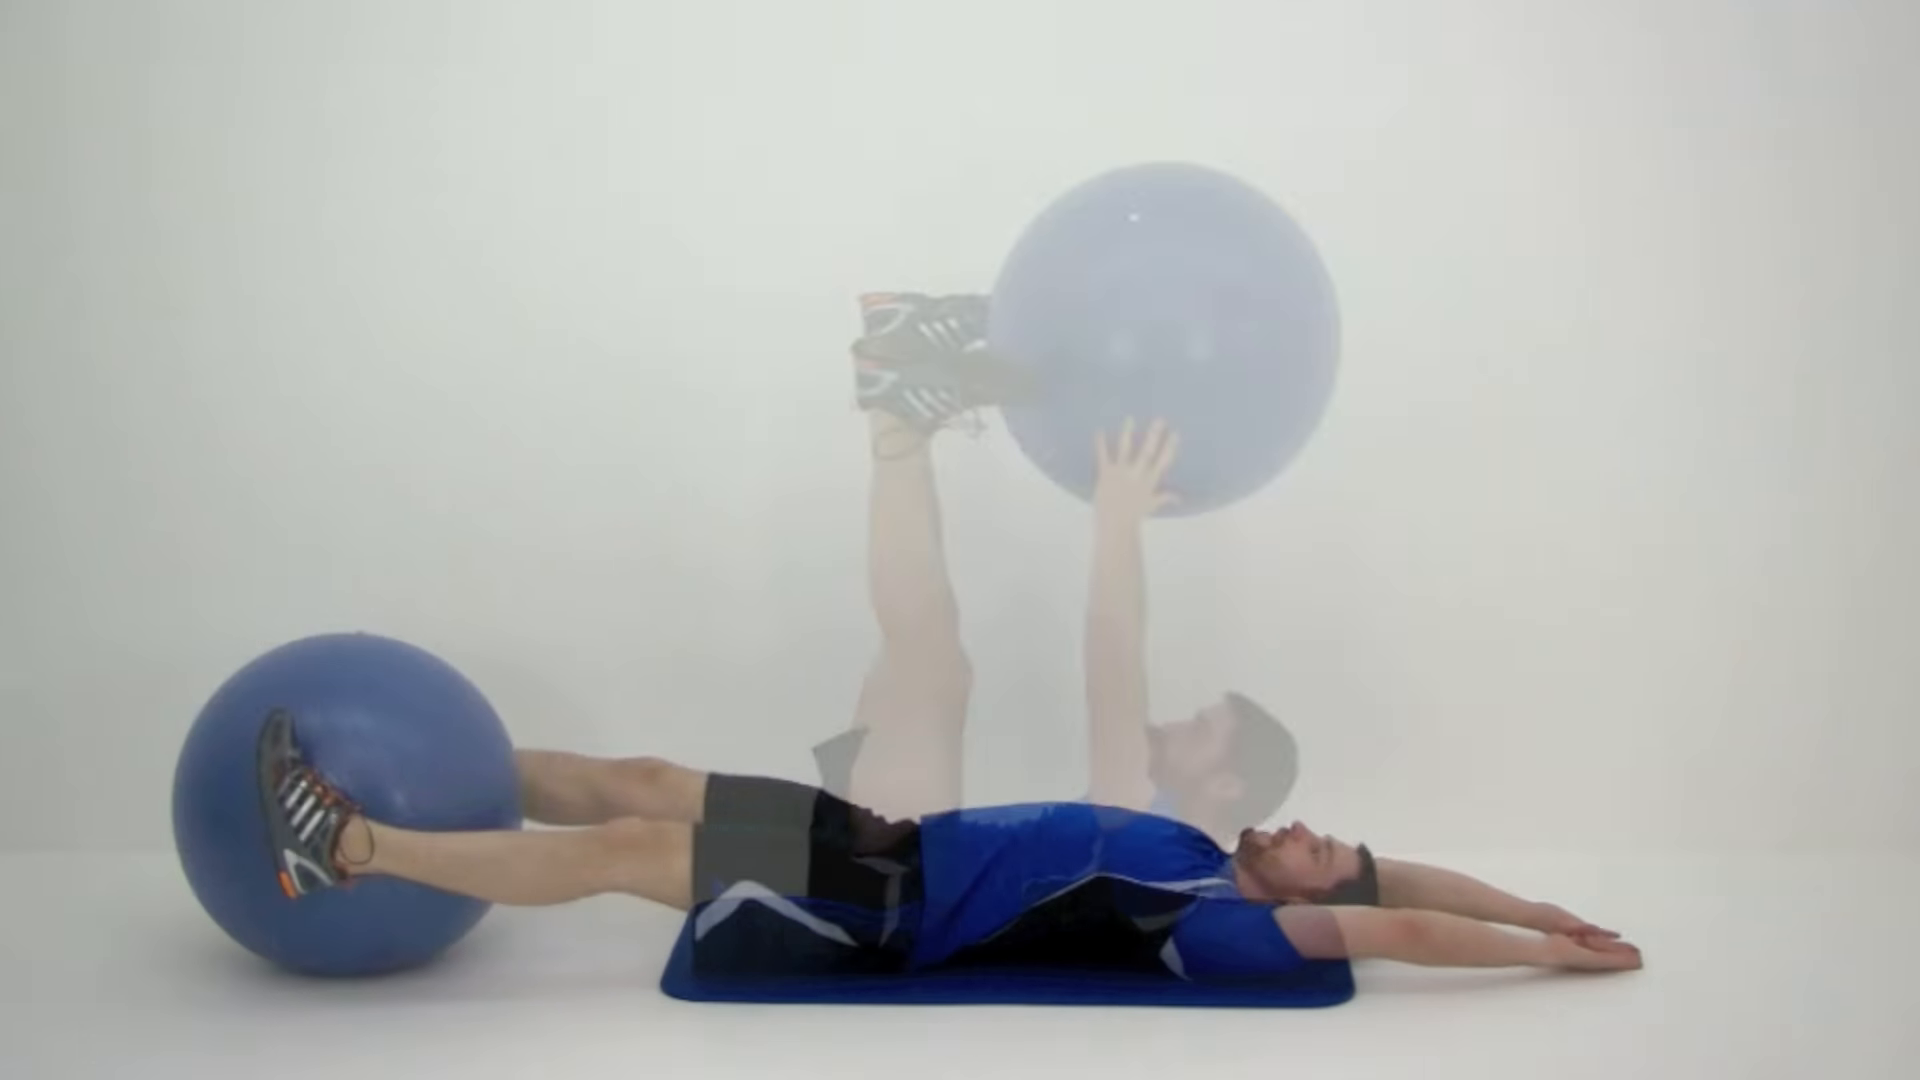yogaball: (167, 618, 530, 989)
